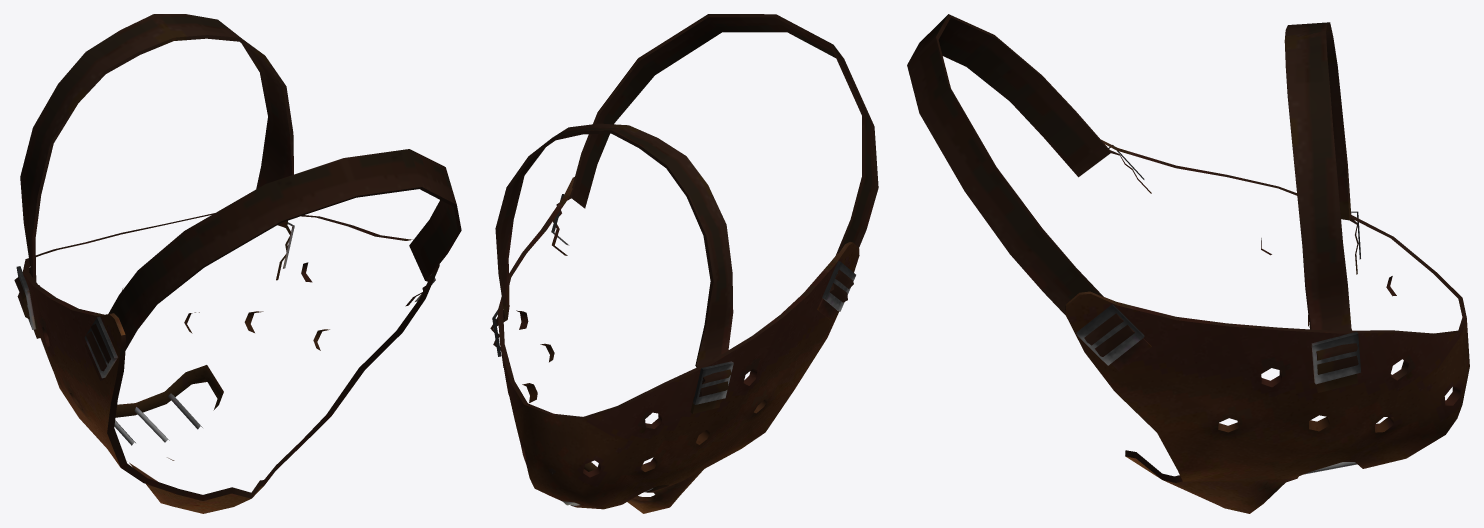
The model's file is kanibal.glb.
3 renders of one model, left to right at view 1: azimuth 30°, elevation 25°; view 2: azimuth 150°, elevation 25°; view 3: azimuth 270°, elevation 25°, orthographic. The views are drawn at different scales.
Parts seen in each view (by area): view 1: Kanibal; view 2: Kanibal; view 3: Kanibal.
Boxes of the visible parts, <box> form: Kanibal: <box>14,14,461,513</box>; Kanibal: <box>490,14,878,513</box>; Kanibal: <box>907,14,1469,513</box>.
Bounding box in the file's own units: 0.1726 × 0.2361 × 0.2499.
1 material, 1 textured.
